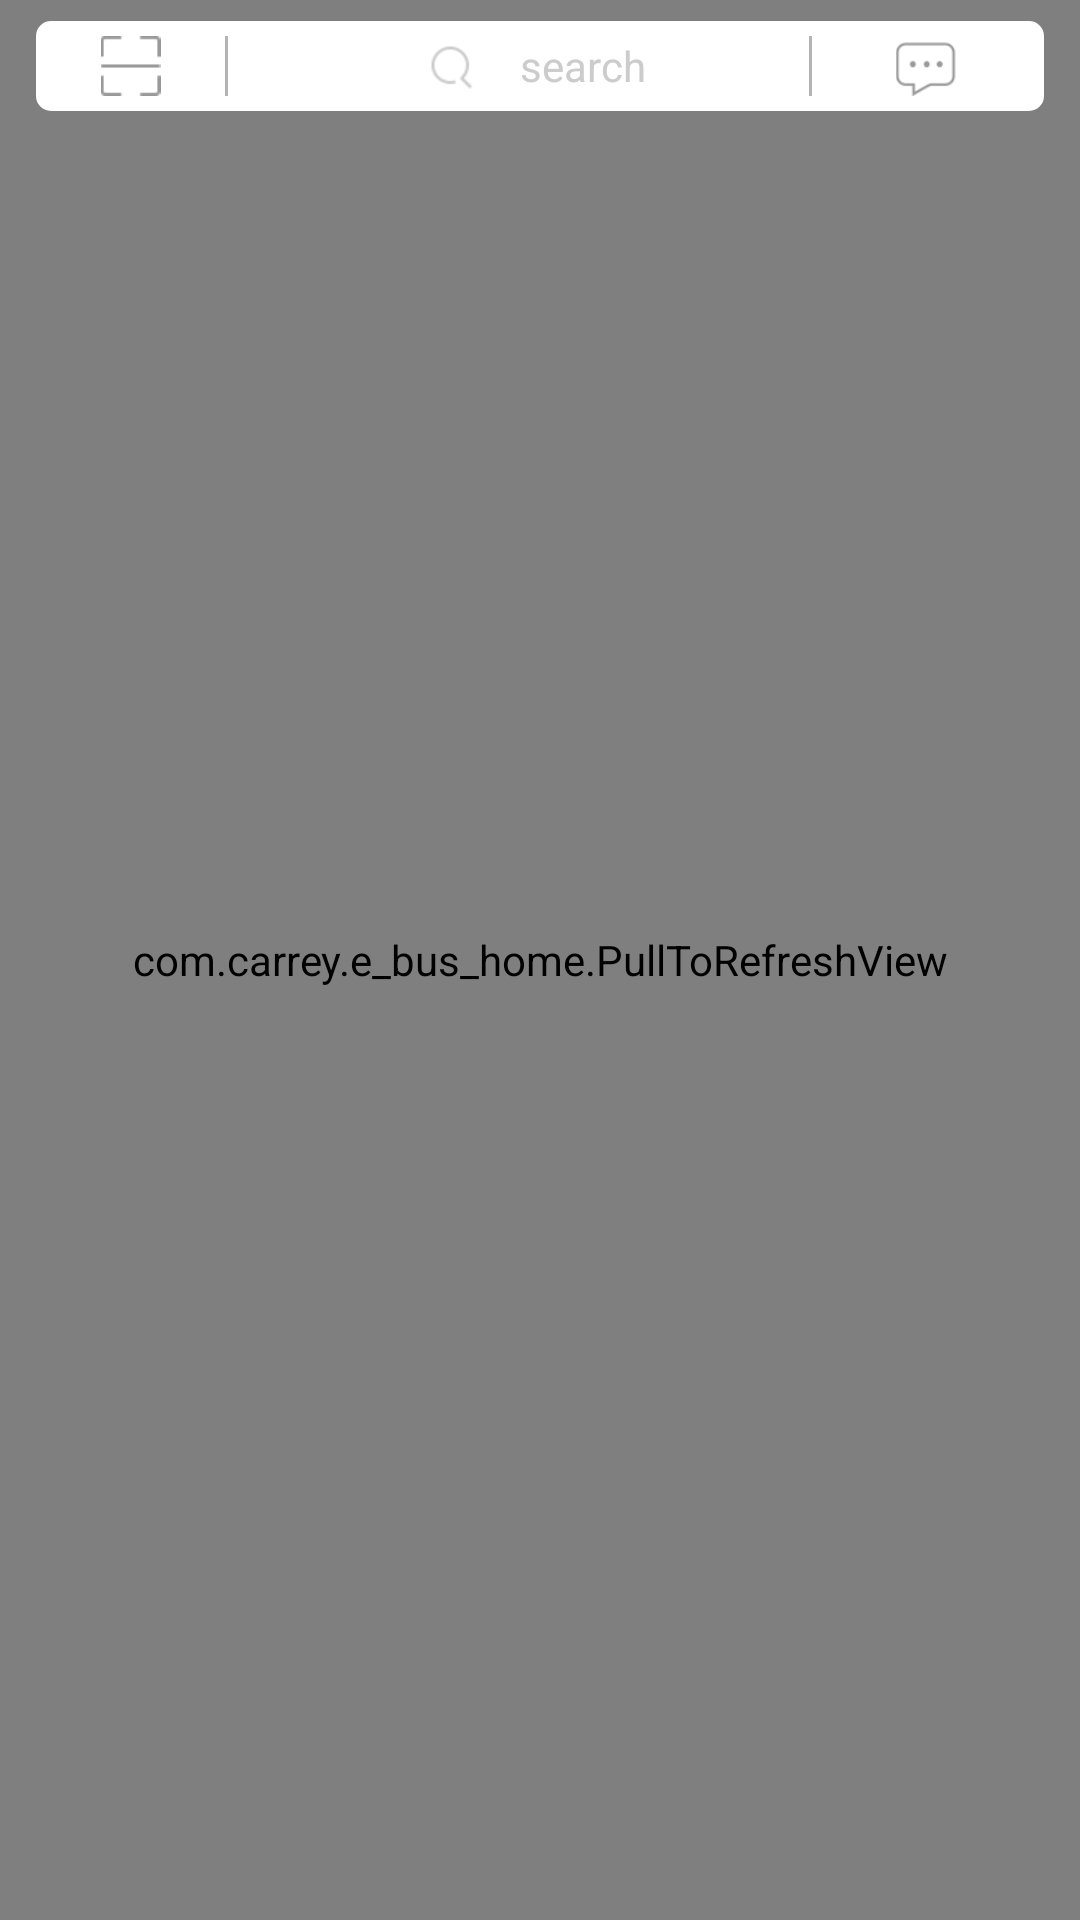

Where to tap for icons on this 1080px x 1920px app screen, as (x=x, y=y):
home scanner: (x=131, y=66)
message box: (x=926, y=69)
